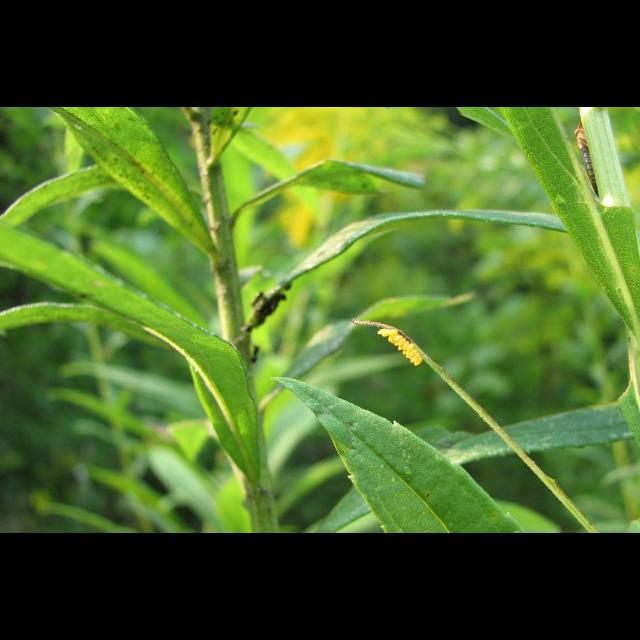Flower: (378, 326, 422, 366)
